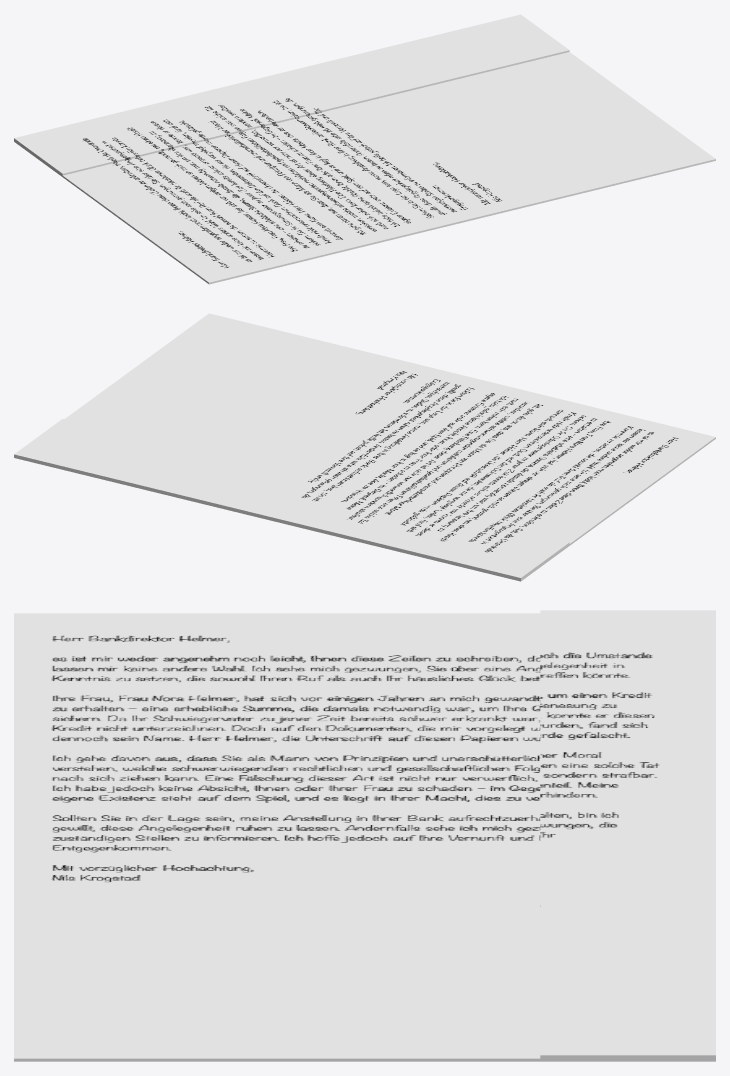
Rendered from Letter.fbx.
The picture shows the model from 3 angles, top to bottom: view 1: azimuth 30°, elevation 25°; view 2: azimuth 150°, elevation 25°; view 3: azimuth 270°, elevation 25°; orthographic projection. The views are drawn at different scales.
Visible parts, largest first — view 1: Plane; view 2: Plane; view 3: Plane.
Part boxes in pixels (x1,y1,x2,y2): Plane: [14, 14, 715, 284]; Plane: [14, 313, 715, 581]; Plane: [14, 610, 715, 1061].
Size of the model in its own units: 300 by 2 by 200.
